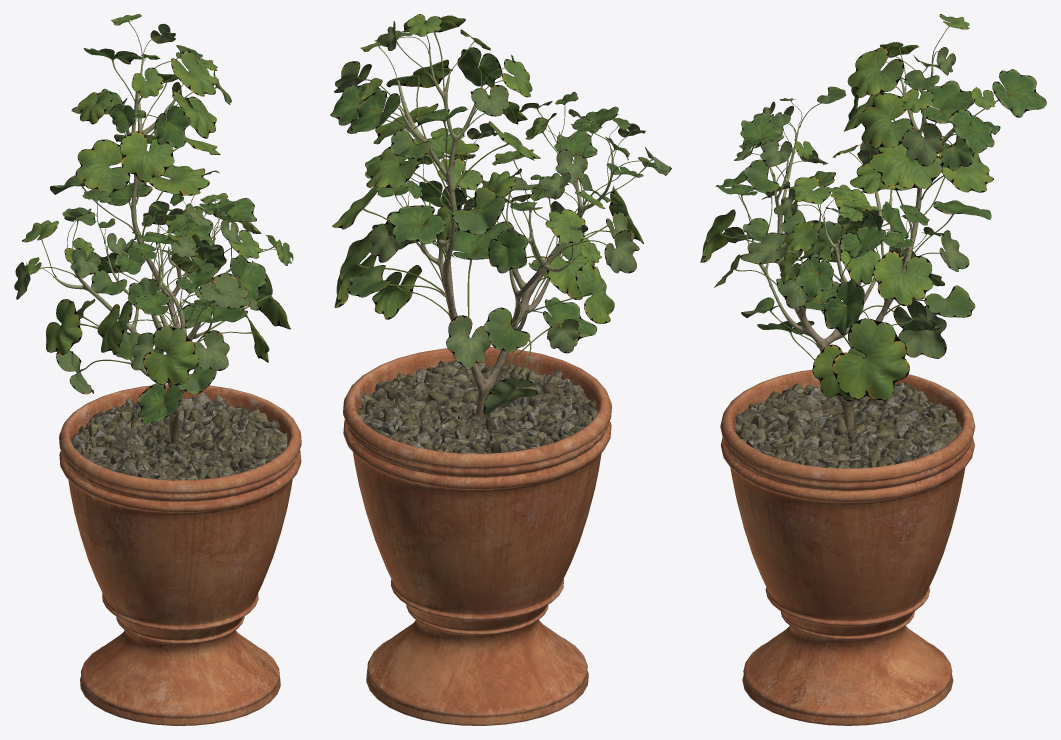
Rendered from potted_plant_01.glb.
The picture shows the model from 3 angles, left to right: view 1: azimuth 30°, elevation 25°; view 2: azimuth 150°, elevation 25°; view 3: azimuth 270°, elevation 25°; orthographic projection. The views are drawn at different scales.
Visible parts, largest first — view 1: potted_plant_01_pot, potted_plant_01_leaves, potted_plant_01_pebbles, potted_plant_01_stem; view 2: potted_plant_01_pot, potted_plant_01_leaves, potted_plant_01_pebbles, potted_plant_01_stem; view 3: potted_plant_01_pot, potted_plant_01_leaves, potted_plant_01_pebbles, potted_plant_01_stem.
Boxes of the visible parts, box(x1,y1,x2,y2) form: potted_plant_01_pot: box(59, 384, 301, 725); potted_plant_01_leaves: box(14, 14, 293, 423); potted_plant_01_pebbles: box(71, 392, 287, 480); potted_plant_01_stem: box(53, 54, 244, 443); potted_plant_01_pot: box(343, 347, 611, 725); potted_plant_01_leaves: box(330, 14, 671, 414); potted_plant_01_pebbles: box(358, 360, 597, 453); potted_plant_01_stem: box(397, 49, 612, 420); potted_plant_01_pot: box(720, 369, 975, 725); potted_plant_01_leaves: box(700, 14, 1046, 401); potted_plant_01_pebbles: box(735, 382, 961, 468); potted_plant_01_stem: box(751, 55, 966, 431).
Size of the model in its own units: 0.5874 by 1.34 by 0.6336.
Materials: 2 (2 with a texture image).
